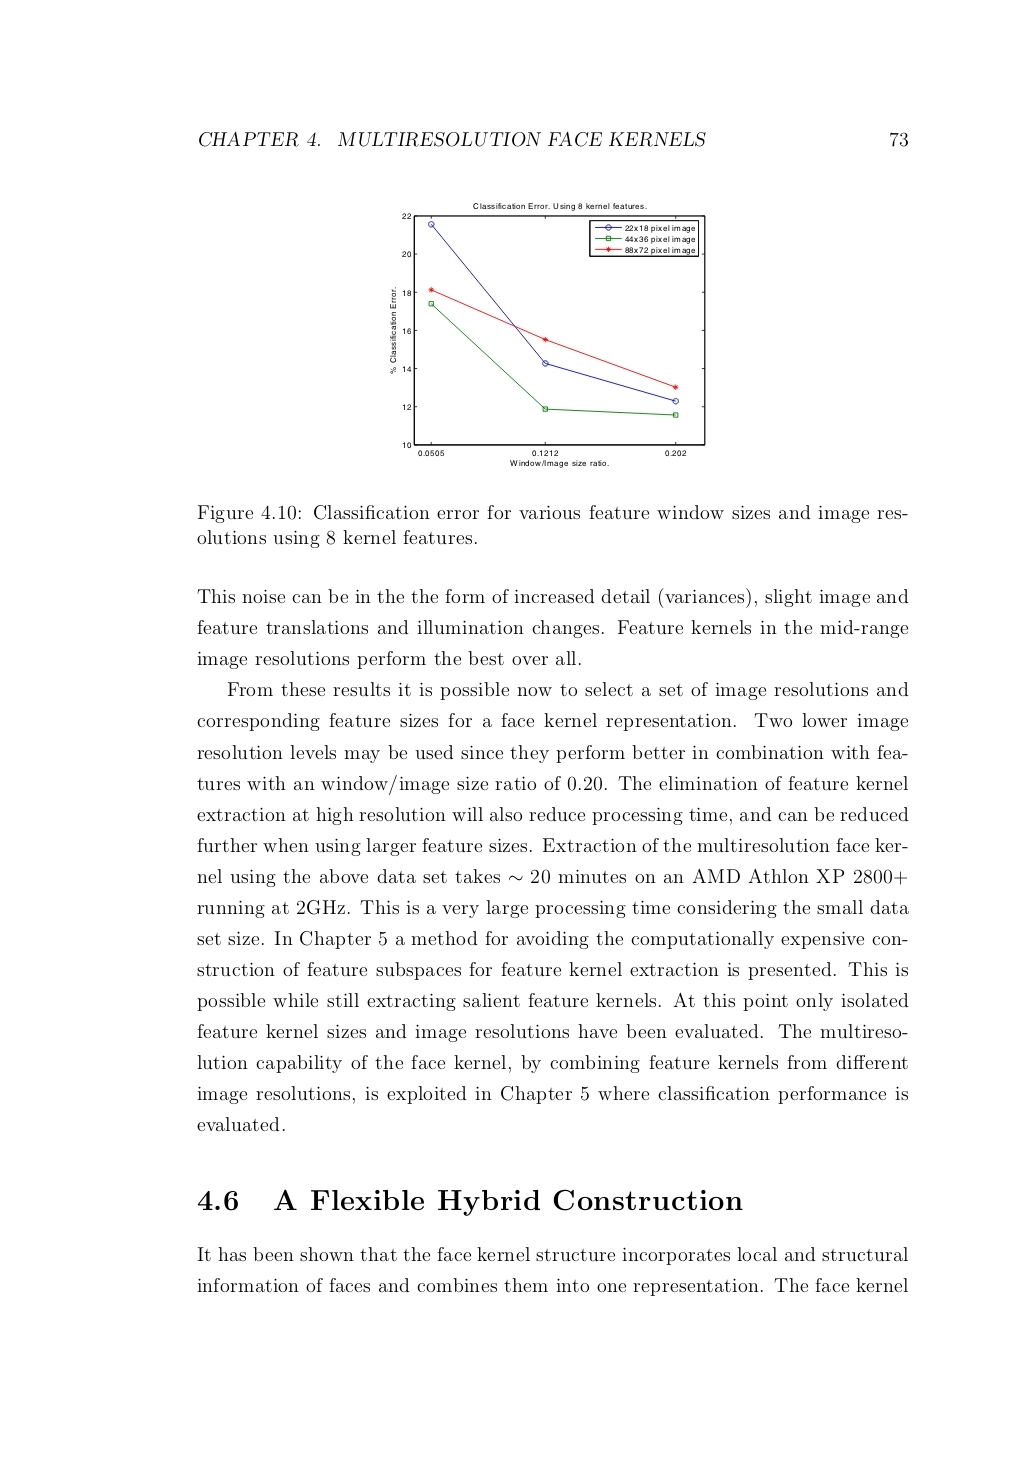figure: (391, 203, 705, 467)
